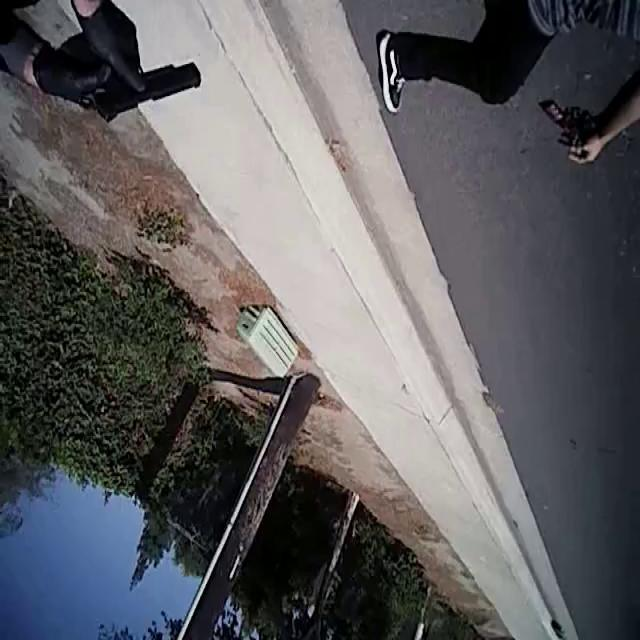gun: (54, 43, 234, 122)
